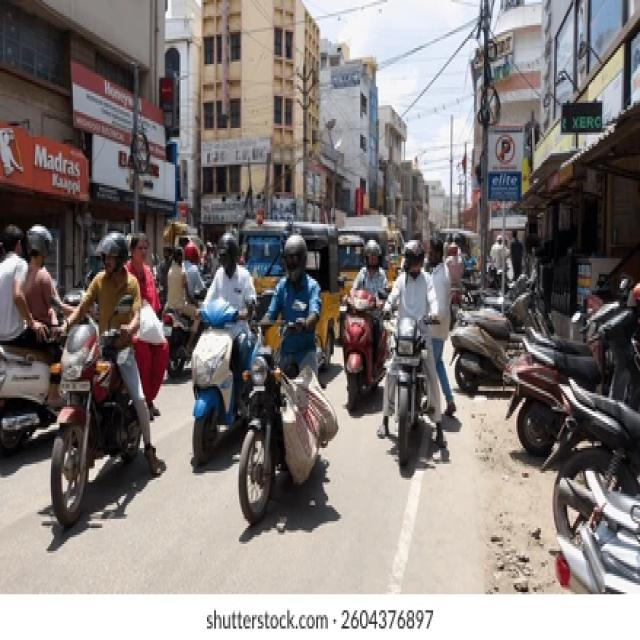Vehicles: (57, 299, 174, 518), (238, 334, 349, 532), (508, 310, 640, 474), (188, 304, 272, 488), (448, 301, 554, 397), (2, 344, 84, 457), (340, 265, 393, 411), (388, 294, 431, 465)
